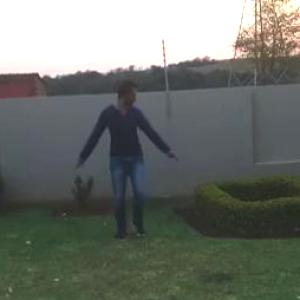land: (47, 76, 188, 274)
